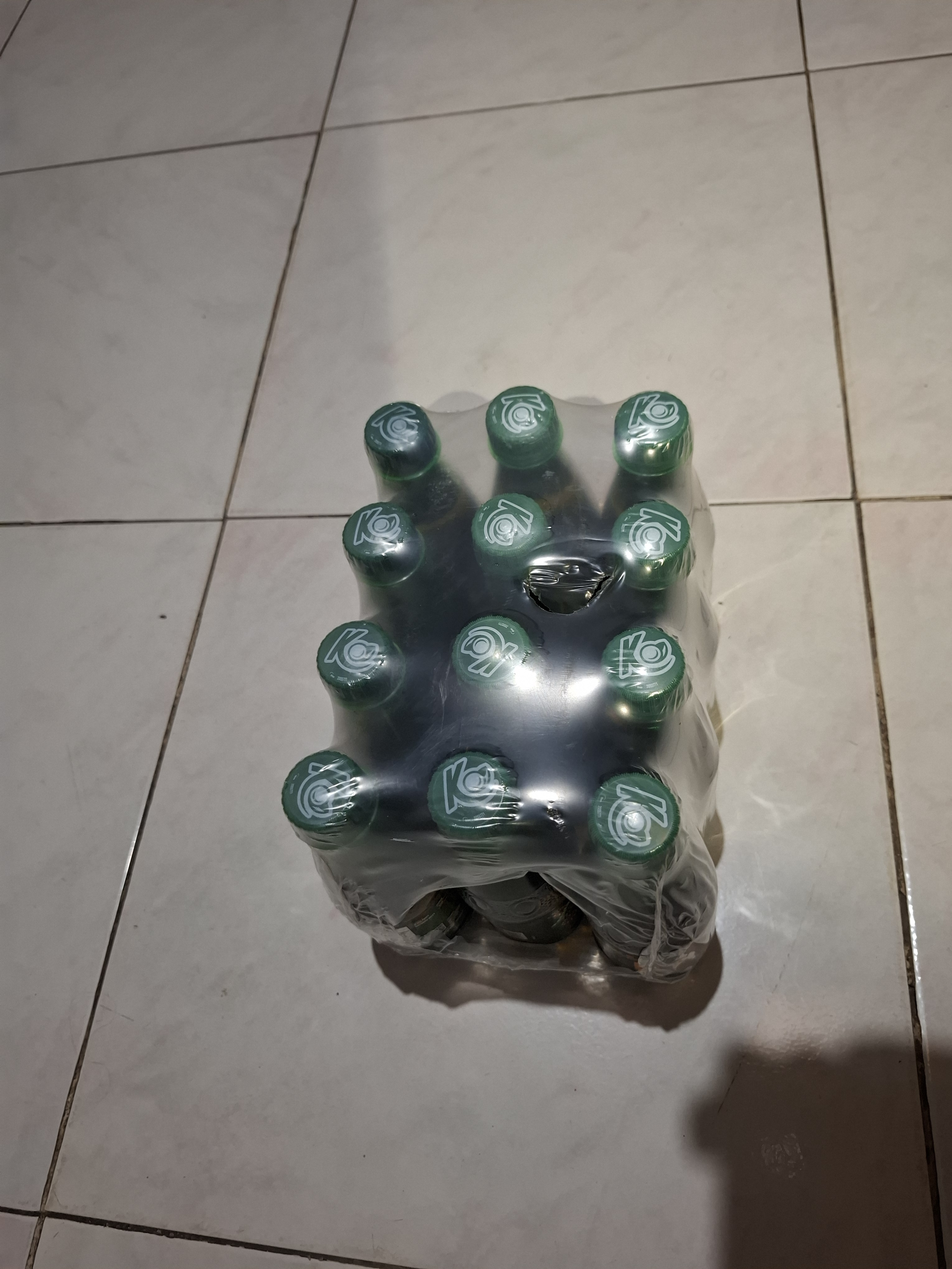Tampa Refrigerante Kuat: (278, 743, 376, 849), (428, 750, 521, 848), (586, 771, 677, 865), (597, 621, 689, 712), (613, 381, 694, 479), (317, 616, 401, 708), (605, 498, 691, 582), (467, 488, 555, 568), (359, 390, 440, 471), (339, 499, 417, 580), (454, 614, 529, 697), (484, 383, 557, 465)
